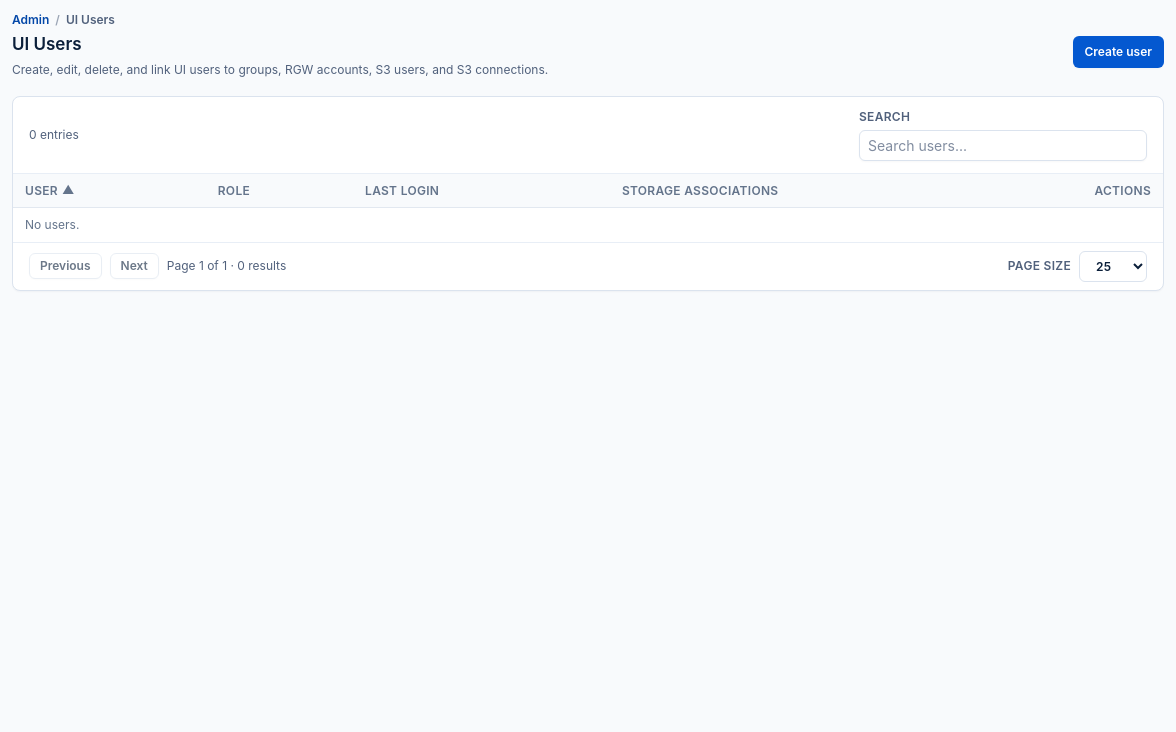
Test: UsersPage modal tabs › keeps role access note hidden by default in create modal and shows it on info icon click
The width and height of the screenshot is (1176, 732).
Click the button "Create user": (1118, 52) [1072,36,1164,68]
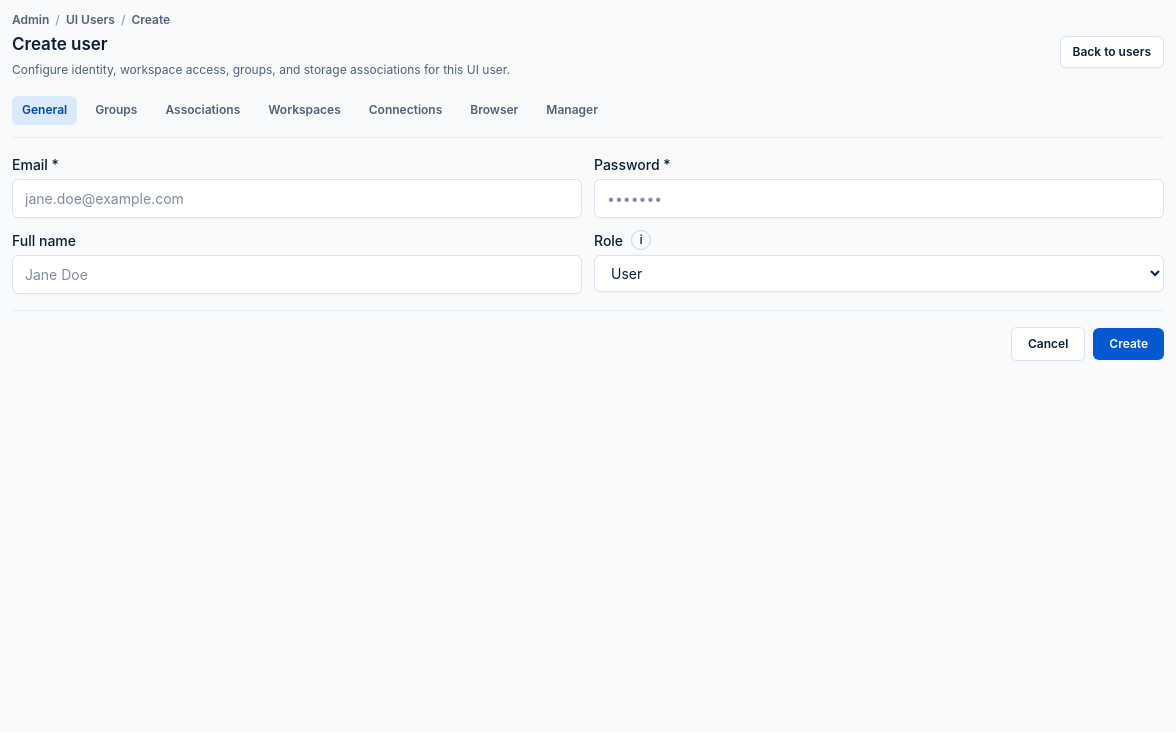
Expected: the text "Role access summary" is not shown
Click the button named "Explain role access levels": (641, 240) [631,230,651,250]
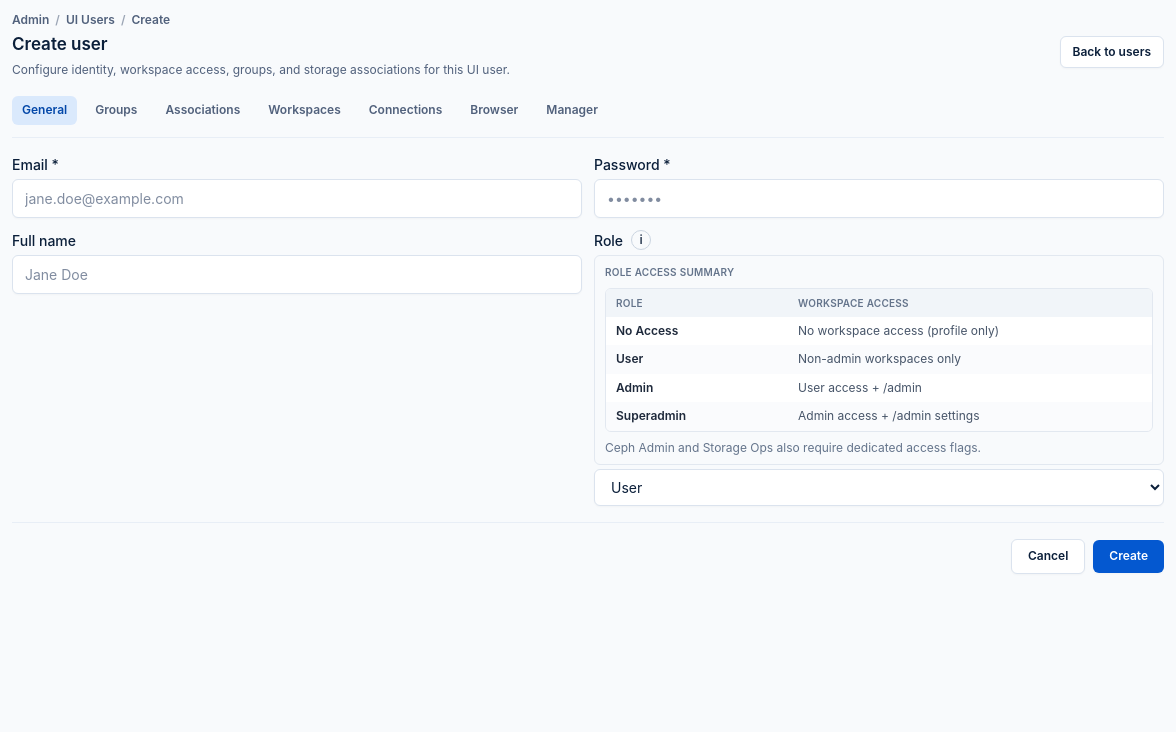
Result: the text "Role access summary" is shown at [605,266,734,278]
Result: the column heading "Workspace access" is shown at [788,288,1152,316]
Result: the text "No workspace access (profile only)" is shown at [788,316,1152,345]
